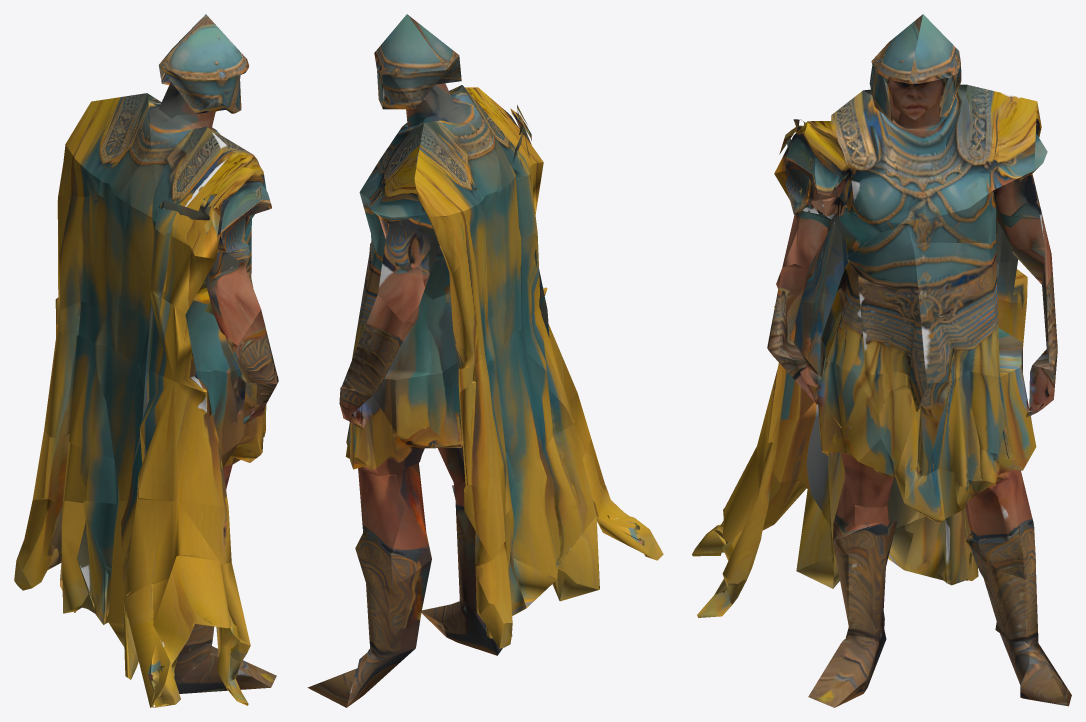
3 views of the same model, side by side, from view 1: azimuth 30°, elevation 25°; view 2: azimuth 150°, elevation 25°; view 3: azimuth 270°, elevation 25° (orthographic). The views are drawn at different scales.
Visible parts, largest first — view 1: body; view 2: body; view 3: body.
Part boxes in pixels (bbox=[...]): body: bbox=[14, 14, 278, 707]; body: bbox=[307, 14, 663, 707]; body: bbox=[692, 14, 1071, 707].
Size of the model in its own units: 0.3158 by 0.9883 by 0.4955.
1 material, 1 textured.
